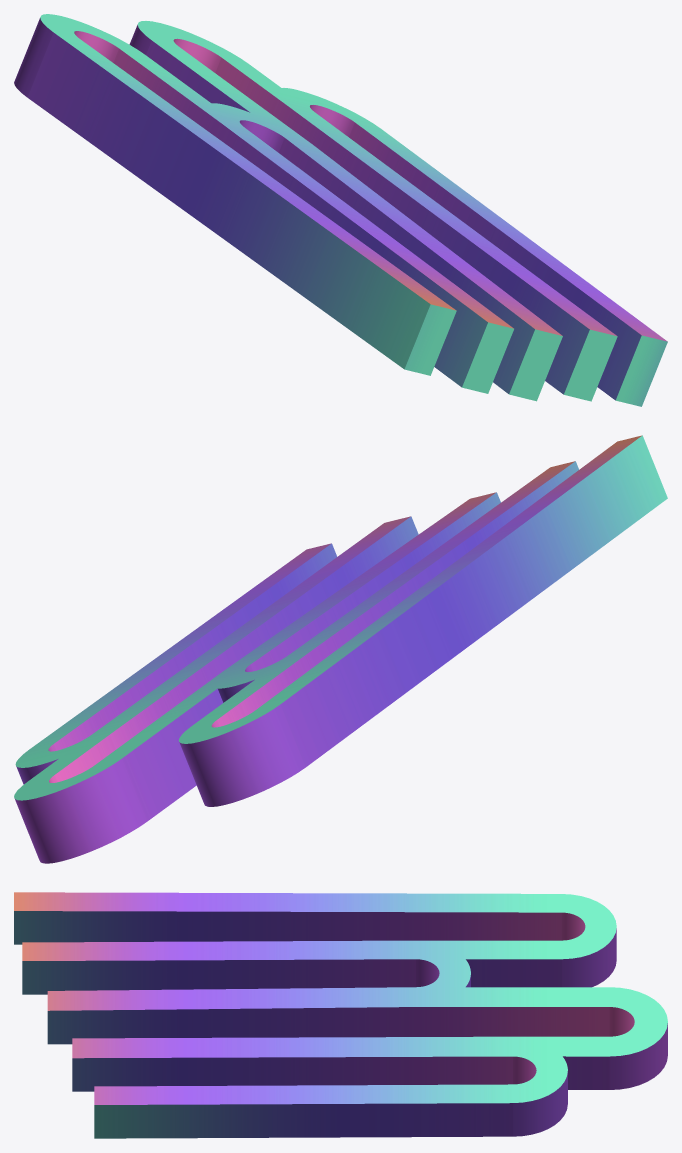
Rendered from Design_A.obj.
The picture shows the model from 3 angles, top to bottom: view 1: azimuth 30°, elevation 25°; view 2: azimuth 150°, elevation 25°; view 3: azimuth 270°, elevation 25°; orthographic projection. The views are drawn at different scales.
Parts seen in each view (by area): view 1: Design_A; view 2: Design_A; view 3: Design_A.
Boxes of the visible parts, x1,y1,x2,y2 form: Design_A: [14, 14, 667, 406]; Design_A: [14, 435, 667, 863]; Design_A: [14, 892, 667, 1138].
Bounding box in the file's own units: 0.4129 × 0.2562 × 1.
Materials: 1 (1 with a texture image).
